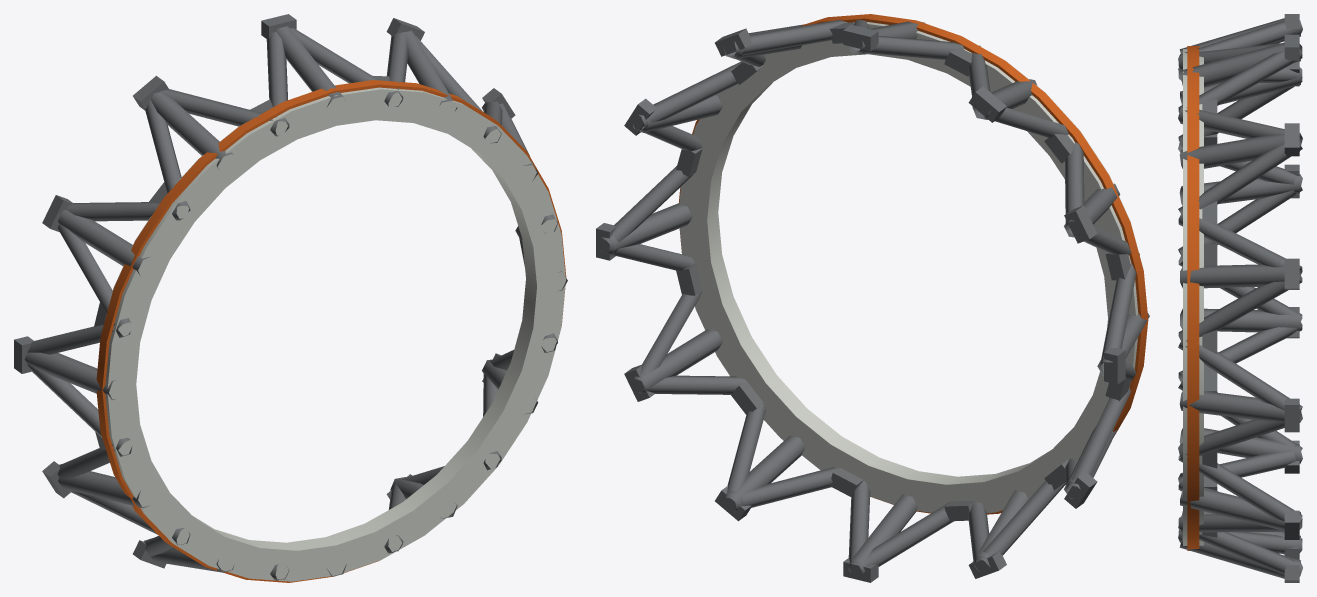
File: u73l_interstage.obj
3 renders of one model, left to right at view 1: azimuth 30°, elevation 25°; view 2: azimuth 150°, elevation 25°; view 3: azimuth 270°, elevation 25°, orthographic. The views are drawn at different scales.
Visible parts, largest first — view 1: u73l_interstage; view 2: u73l_interstage; view 3: u73l_interstage.
Boxes of the visible parts, bbox=[...] form: u73l_interstage: bbox=[14, 14, 567, 582]; u73l_interstage: bbox=[596, 14, 1149, 582]; u73l_interstage: bbox=[1178, 14, 1302, 582].
Bounding box in the file's own units: 3.8 × 3.8 × 0.8354.
